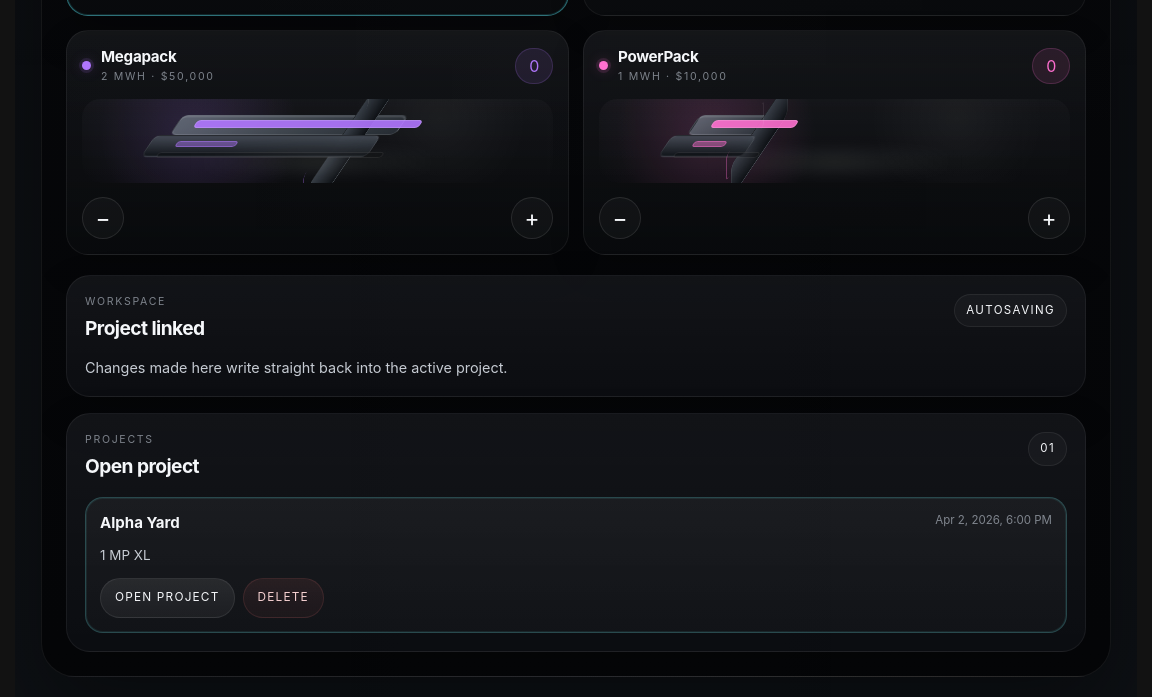
Test: App › deletes a saved project from the library and keeps the open workspace as a draft
This screenshot has width=1152, height=697.
(page scrolled)
Click the button "Delete".
click(283, 598)  # box 242,578 -> 324,618
(page scrolled)
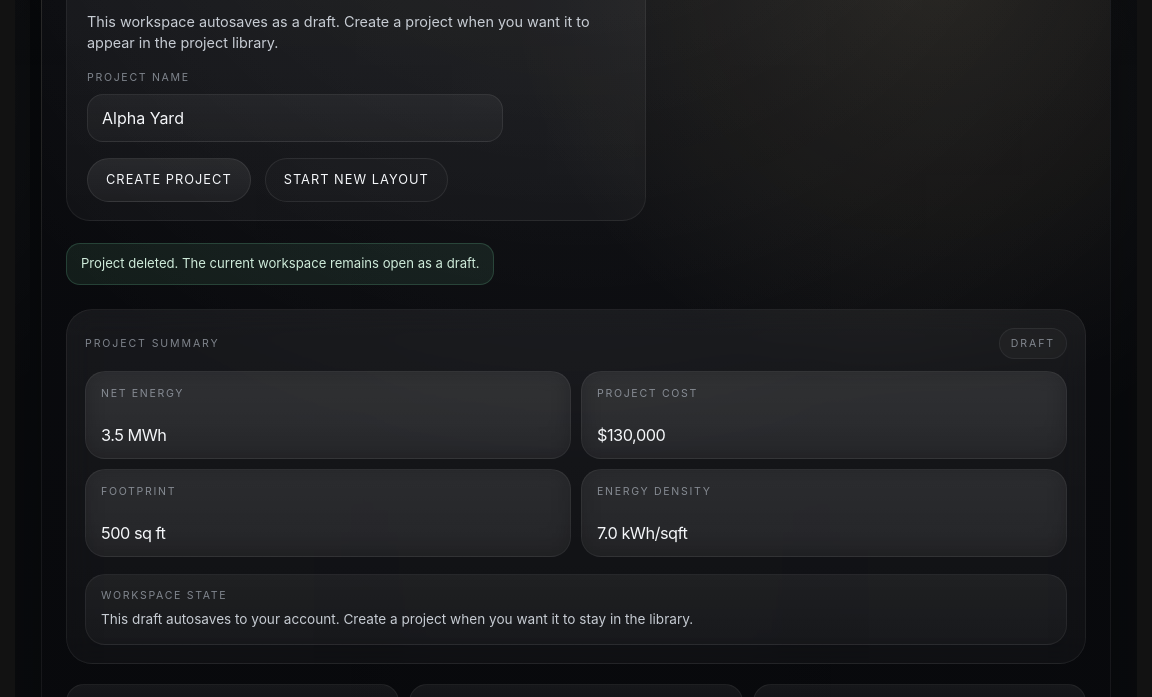
Now the text "Project deleted. The current workspace remains open as a draft." is shown, box 66,243 -> 494,284
Now the button "Create project" is shown, box 87,158 -> 251,202
Now the text "Draft" is shown, box 999,328 -> 1067,359
